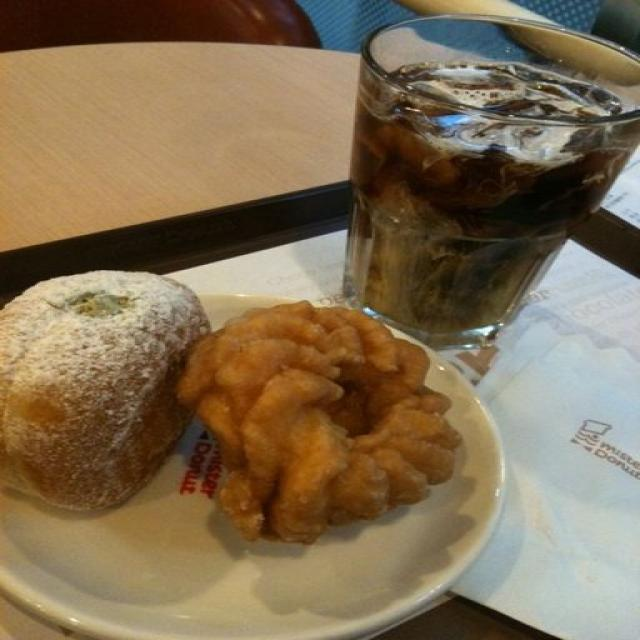Donuts: (5, 263, 190, 574)
